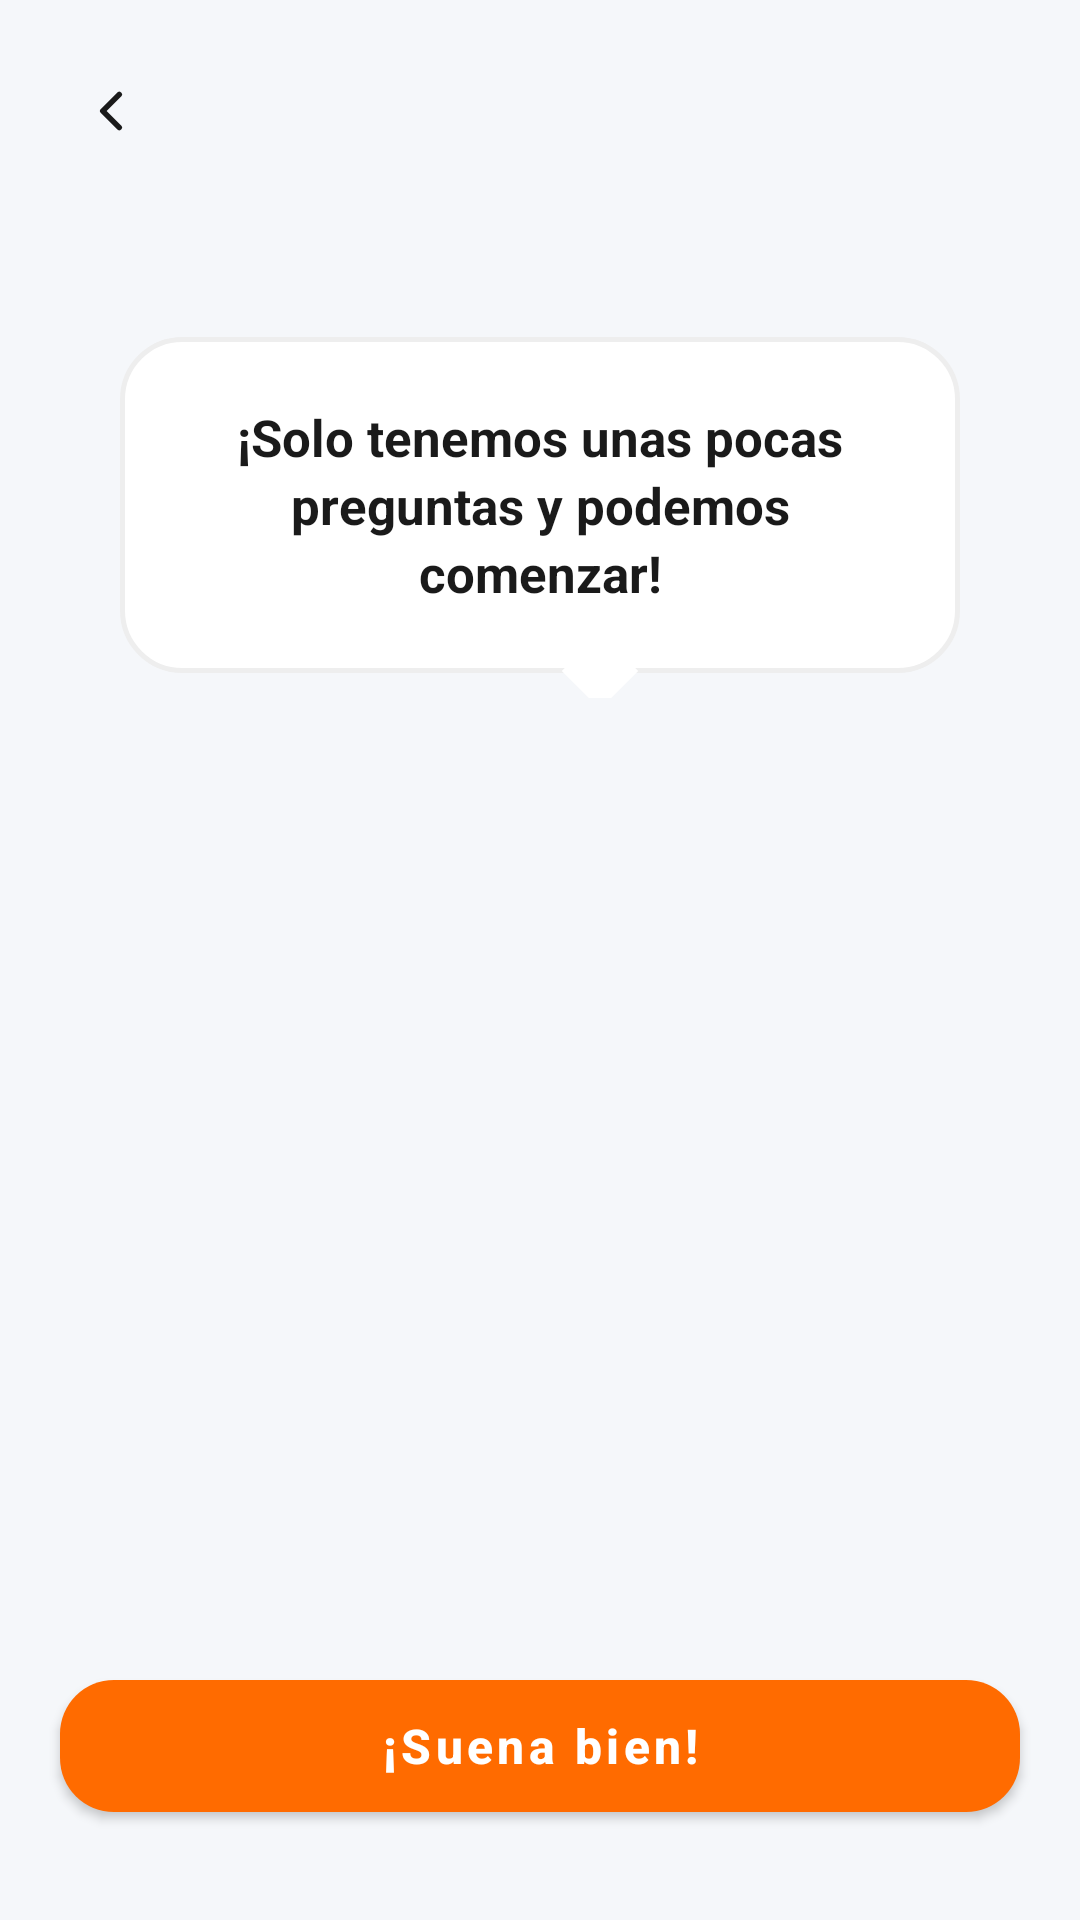

Icon click points for this 1080*1920 phone screenshot, format (x=x, y=y):
Volver: (x=111, y=111)
